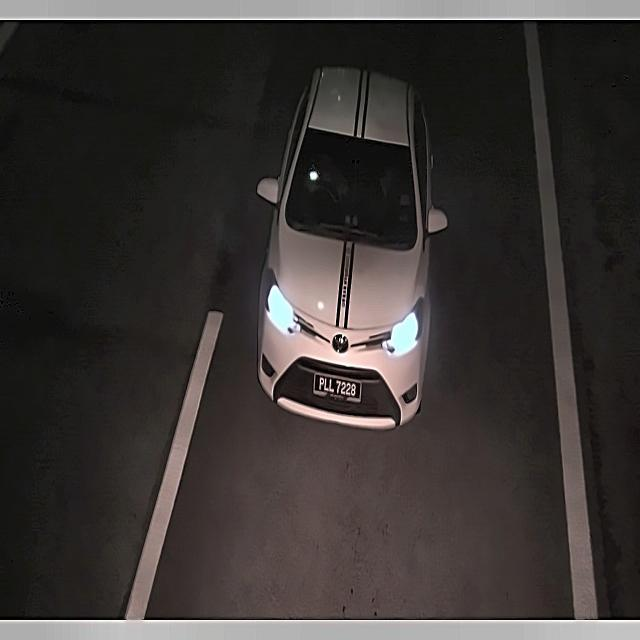car: (306, 367, 366, 403)
